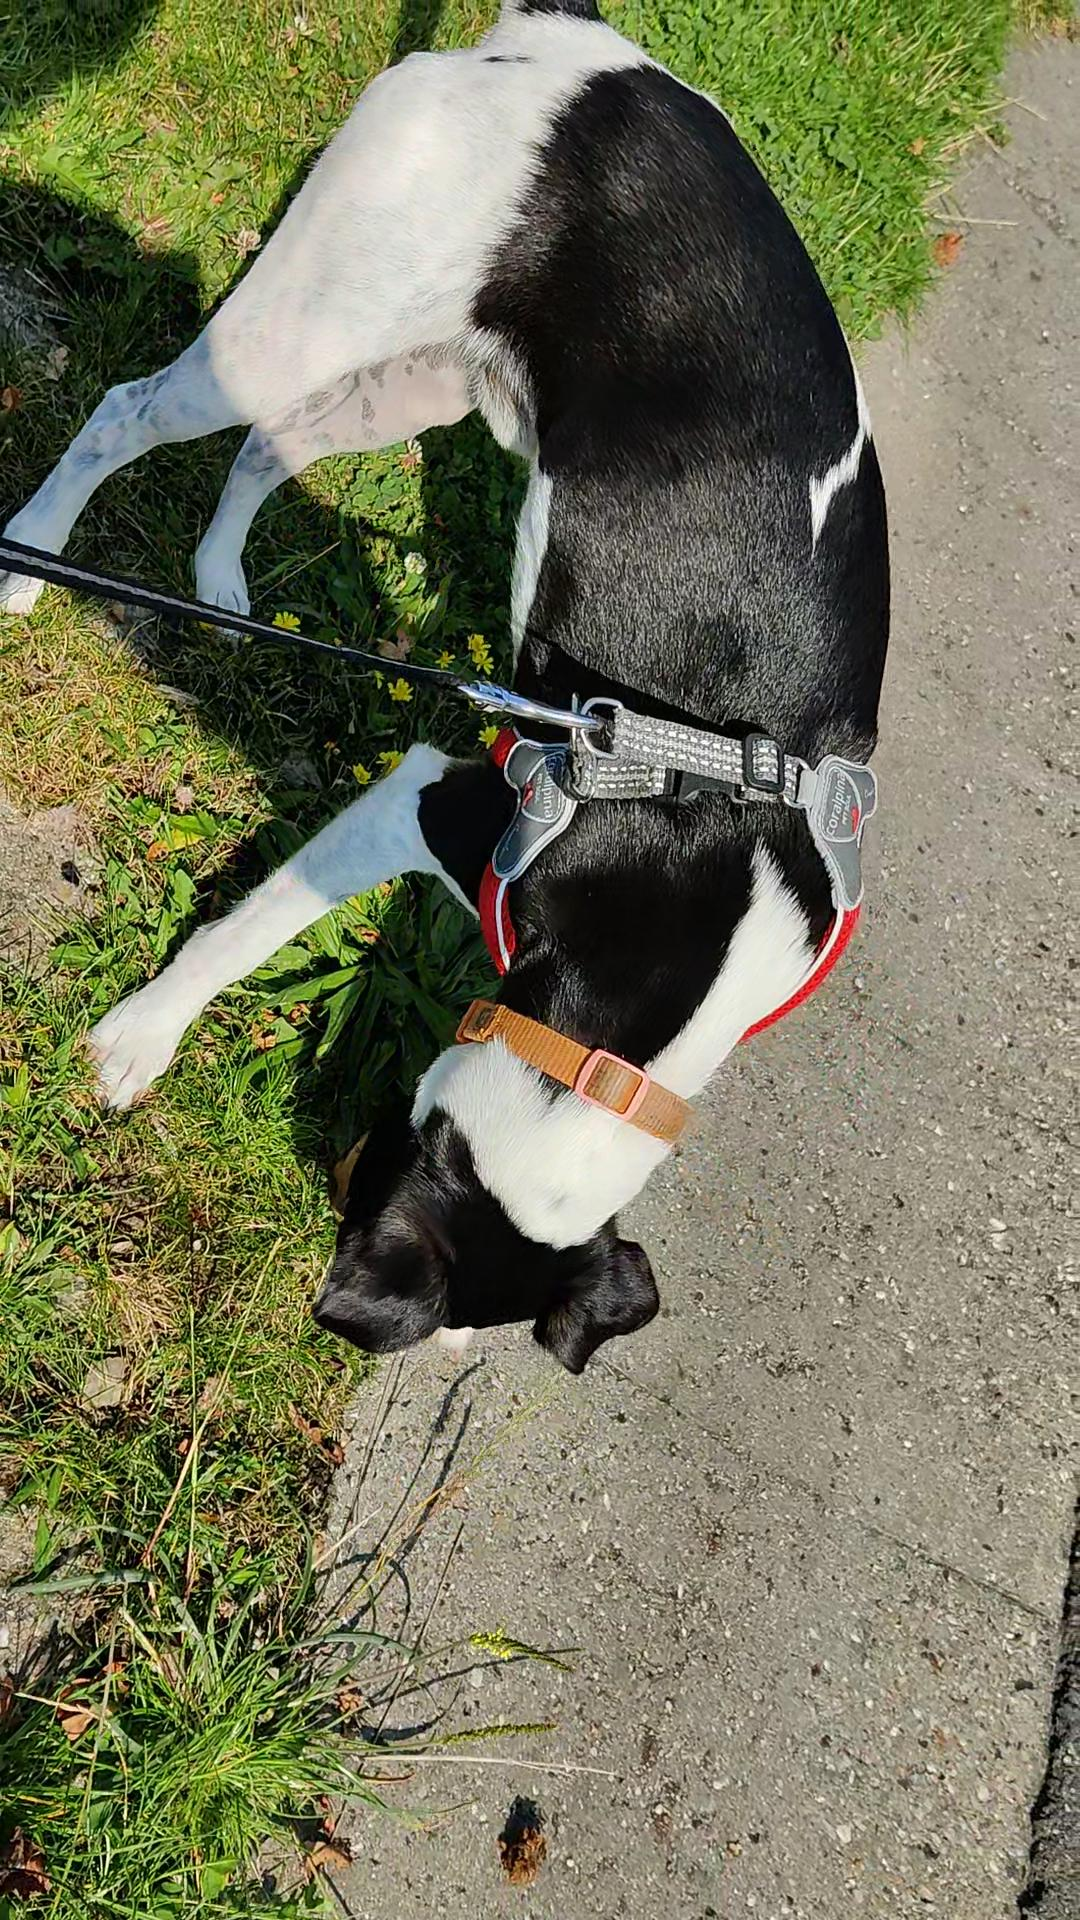Dog: (0, 0, 899, 1379)
